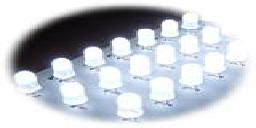LED: (148, 74, 179, 106), (58, 79, 89, 109), (96, 64, 126, 93), (12, 68, 41, 97), (117, 91, 146, 118), (50, 54, 81, 79), (127, 53, 152, 76), (111, 33, 131, 57), (82, 46, 103, 66)
